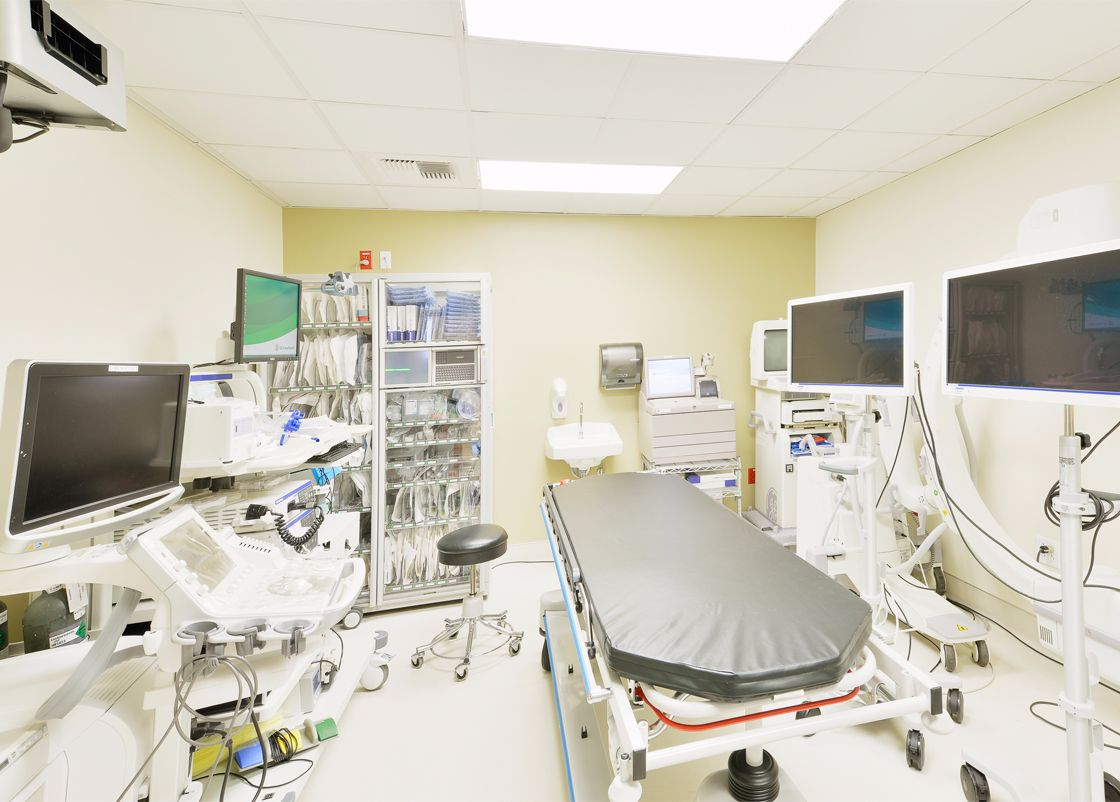bedside_monitor: (942, 236, 1120, 405), (786, 281, 918, 399), (755, 326, 799, 381), (648, 358, 698, 398)
cabinet: (257, 257, 490, 589)
chair: (412, 525, 523, 685)
computer: (234, 268, 304, 365)
countertop: (1, 357, 198, 546)
dispenser: (596, 338, 643, 392), (547, 375, 571, 423)
exam_table: (542, 470, 876, 802)
faucet: (576, 401, 586, 436)
keyboard: (310, 440, 366, 465)
sink: (544, 419, 625, 472)
